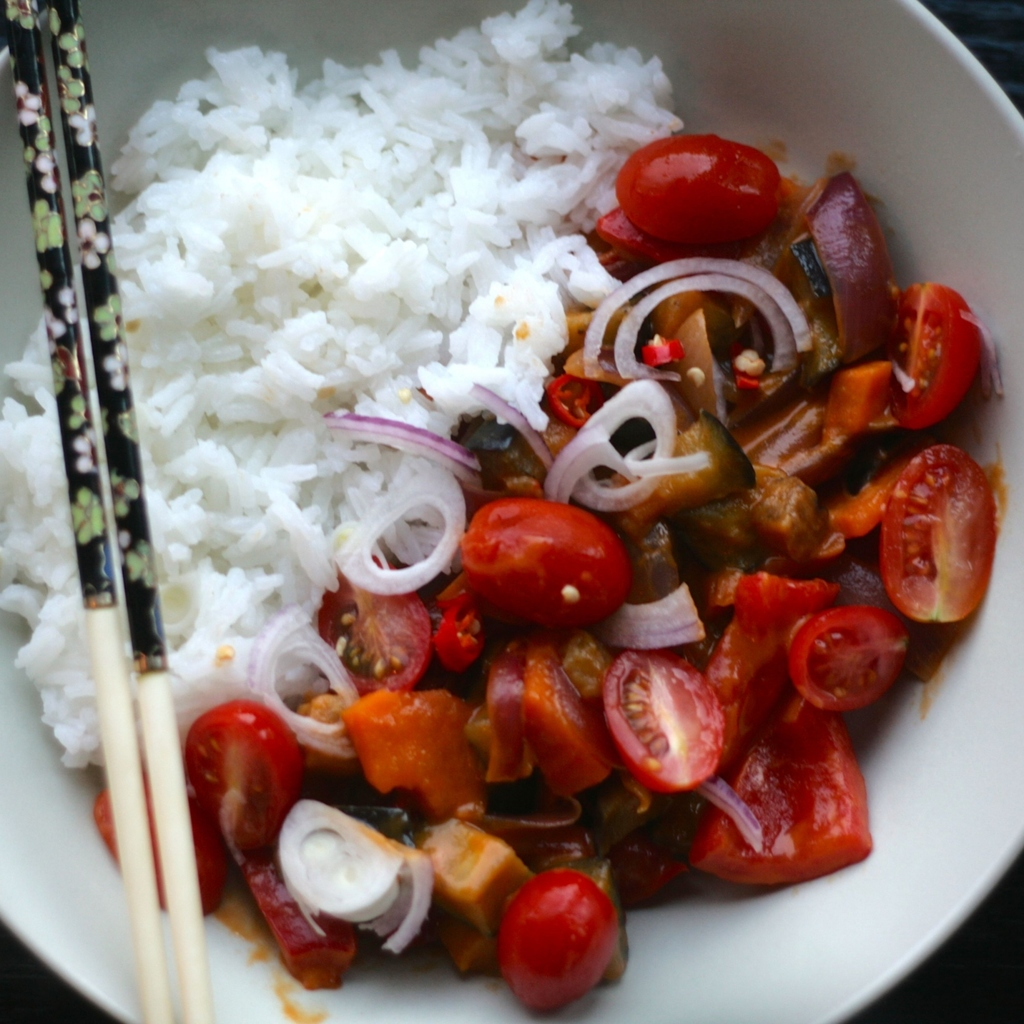Tomato: (81, 136, 1012, 1023), (477, 491, 620, 645)
